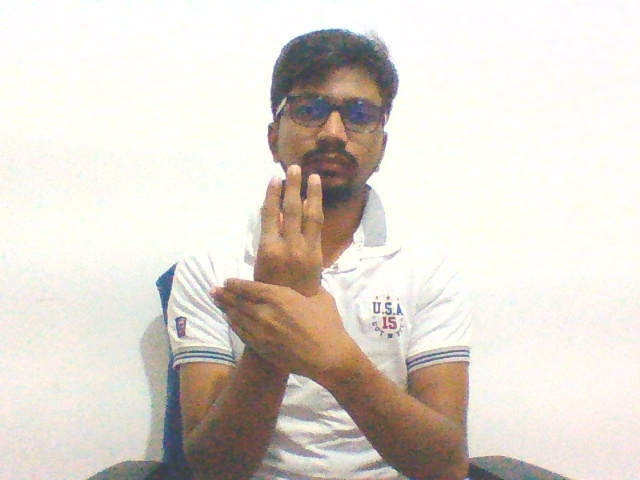tree: (200, 156, 358, 393)
